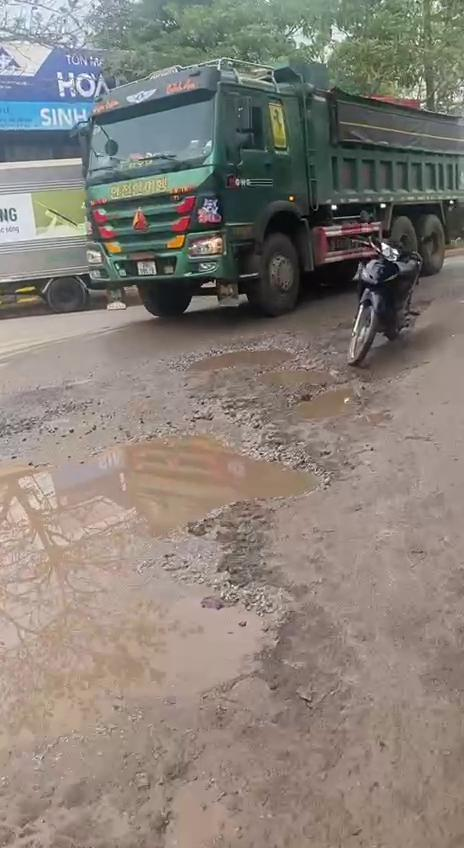pothole: (0, 425, 346, 598), (179, 343, 369, 445)
